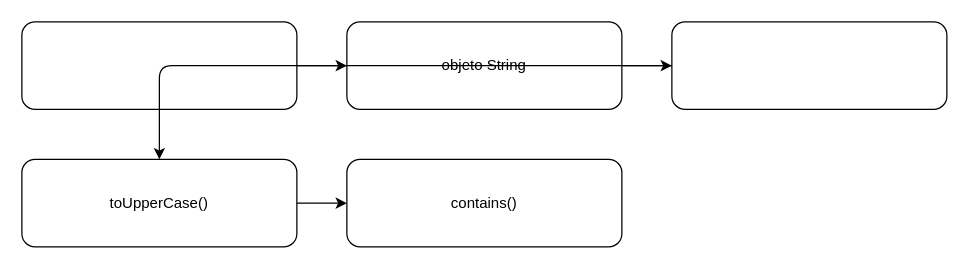
Some shapes in this 969 by 269 pixel diagram are drawn without their labels. Each missing label, with the box of its shape:
length(): (671, 21, 947, 109)
String nome: (21, 21, 297, 109)
